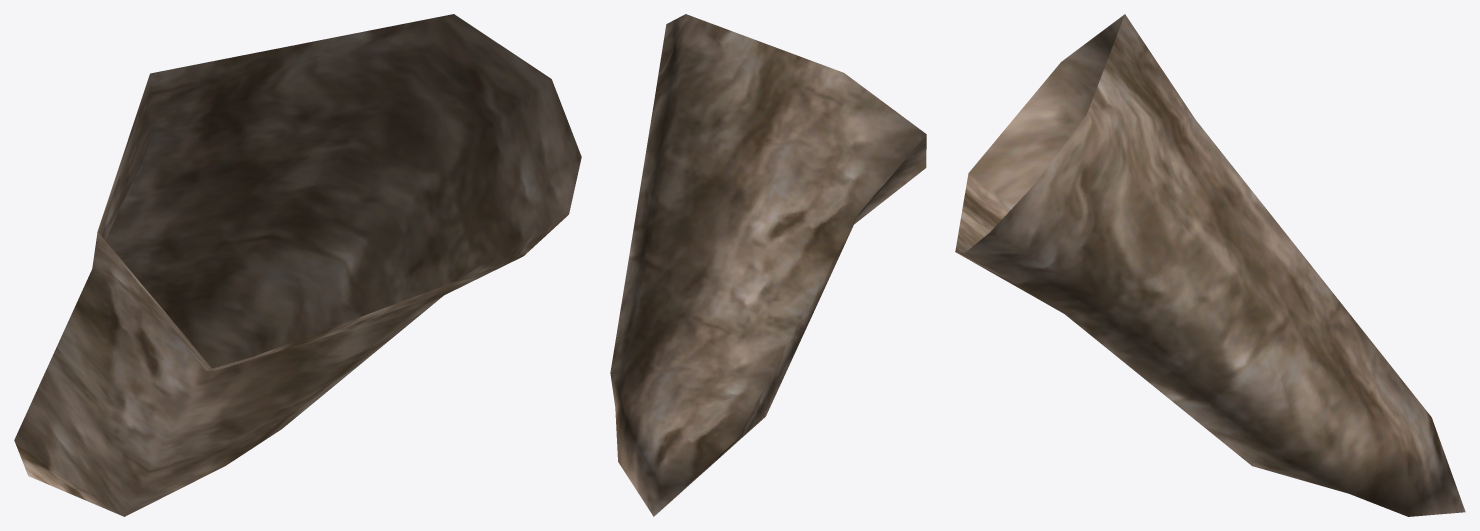
The model's file is OVERHILL_A_01_ROCK02.fbx.
3 renders of one model, left to right at view 1: azimuth 30°, elevation 25°; view 2: azimuth 150°, elevation 25°; view 3: azimuth 270°, elevation 25°, orthographic. The views are drawn at different scales.
Parts seen in each view (by area): view 1: OVERHILL_A_01_ROCK02; view 2: OVERHILL_A_01_ROCK02; view 3: OVERHILL_A_01_ROCK02.
Boxes of the visible parts, left/top/right/bottom form: OVERHILL_A_01_ROCK02: left=14, top=14, right=581, bottom=516; OVERHILL_A_01_ROCK02: left=610, top=14, right=926, bottom=516; OVERHILL_A_01_ROCK02: left=955, top=14, right=1465, bottom=516.
Bounding box in the file's own units: 30033 × 38608 × 38041.
1 material, 1 textured.
